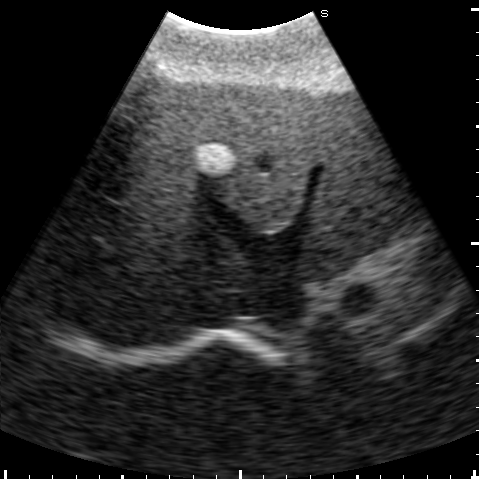S2: (305, 95, 395, 274)
S4: (133, 73, 323, 234)
S7: (51, 235, 179, 339)
S8: (90, 153, 246, 283)
Tumor: (195, 142, 236, 179)
